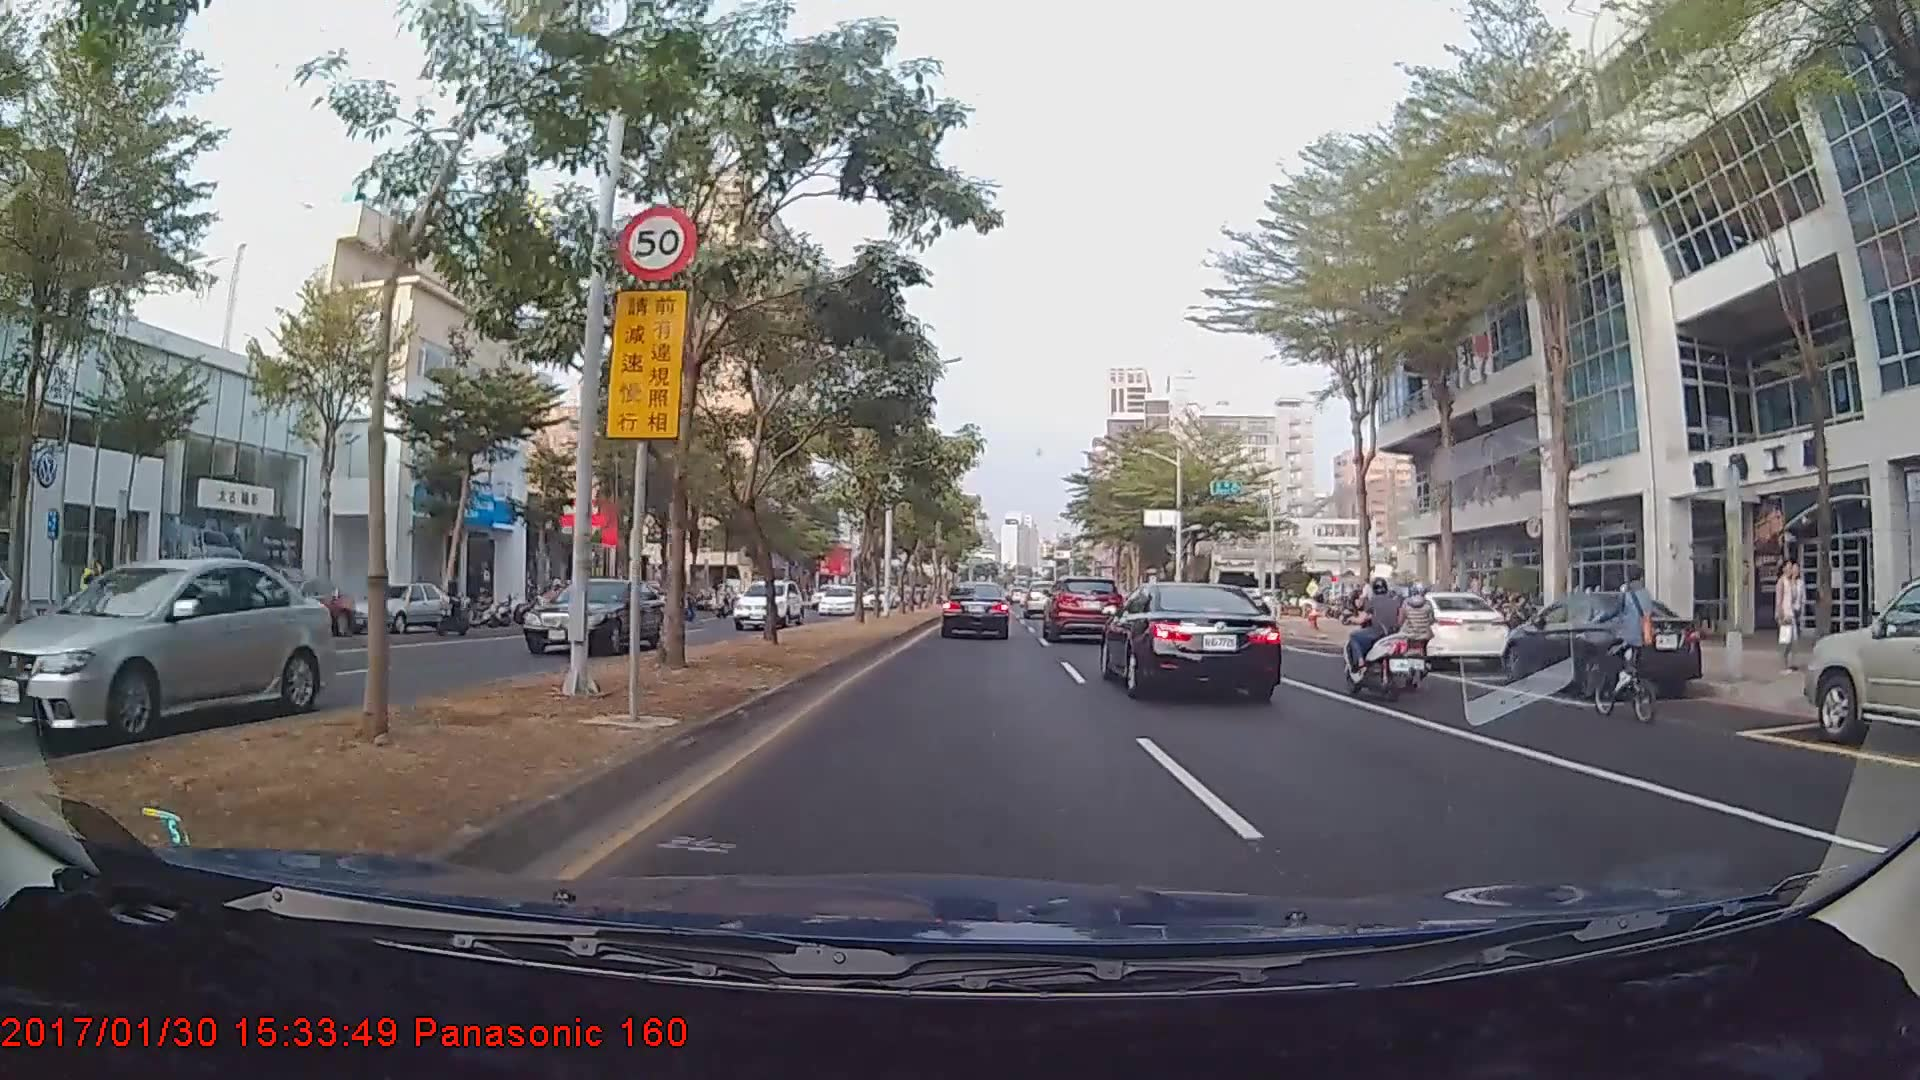pedestrian: (1774, 565, 1800, 674)
rider: (1584, 570, 1667, 730), (1340, 573, 1425, 707), (1390, 579, 1442, 685)
vehicle: (0, 556, 338, 742), (1505, 584, 1704, 699), (1104, 573, 1281, 702), (1802, 573, 1920, 749), (517, 574, 666, 656), (1367, 590, 1512, 673), (225, 577, 352, 639), (347, 580, 457, 632), (1043, 575, 1121, 641), (939, 579, 1011, 640), (730, 577, 803, 630), (1022, 580, 1062, 618), (816, 584, 857, 616)
